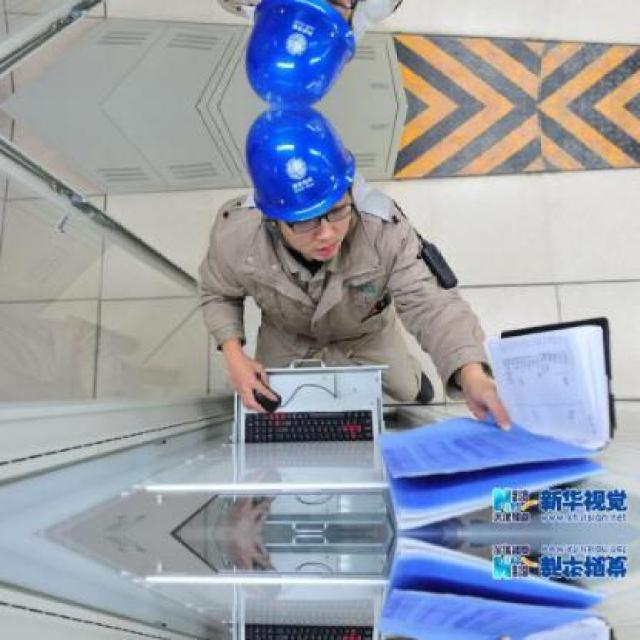helmet: (243, 110, 359, 223)
